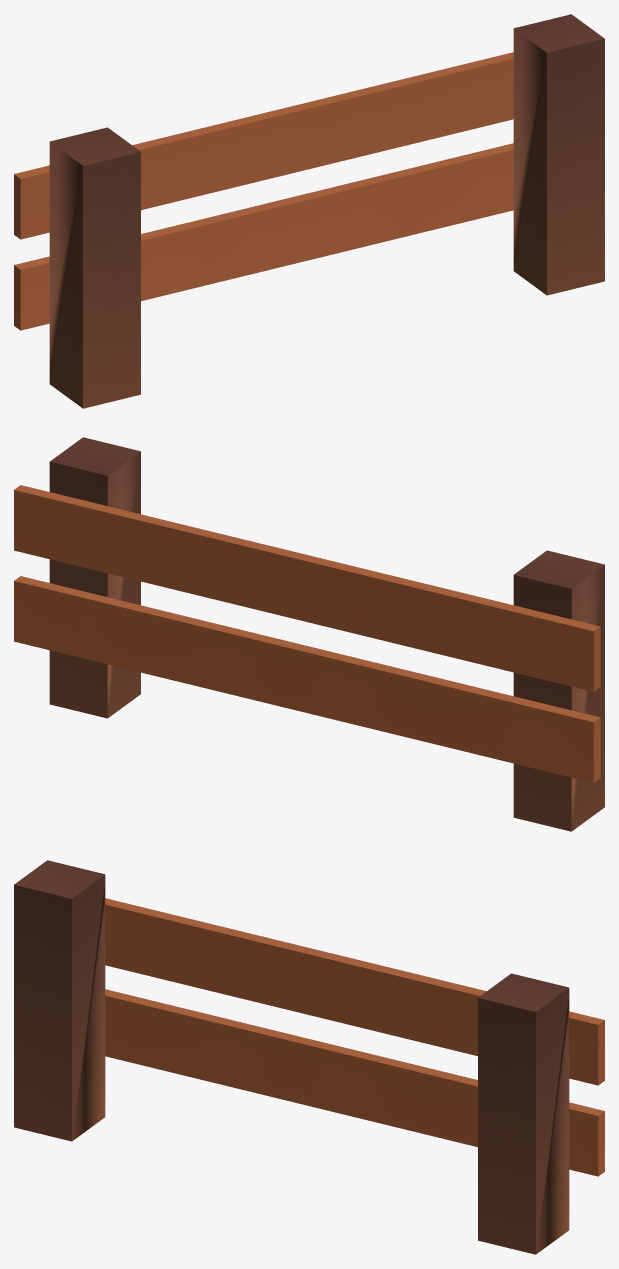
Rendered from fence.glb.
3 views of the same model, one above another, from view 1: azimuth 30°, elevation 25°; view 2: azimuth 150°, elevation 25°; view 3: azimuth 330°, elevation 25° (orthographic).
Visible parts, largest first — view 1: fence; view 2: fence; view 3: fence.
Part boxes in pixels (x1,y1,x2,y2): fence: (14, 14, 604, 408); fence: (14, 437, 604, 831); fence: (14, 860, 604, 1254).
Size of the model in its own units: 1 by 0.4 by 0.12.
1 material, 1 textured.
